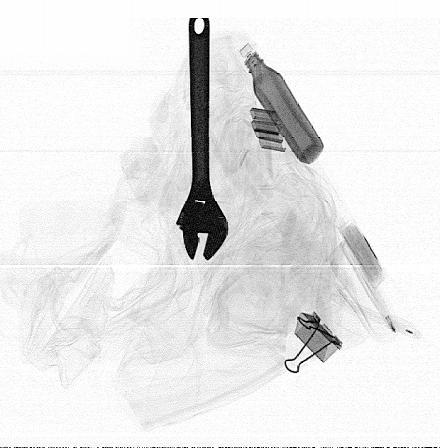Wrench: (174, 16, 231, 265)
